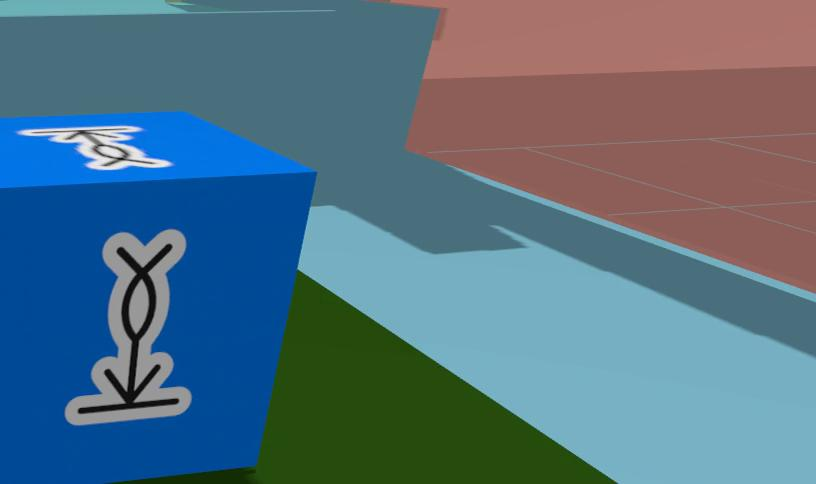KFS_REAL: (0, 112, 314, 484), (65, 229, 190, 425), (18, 125, 172, 169)
